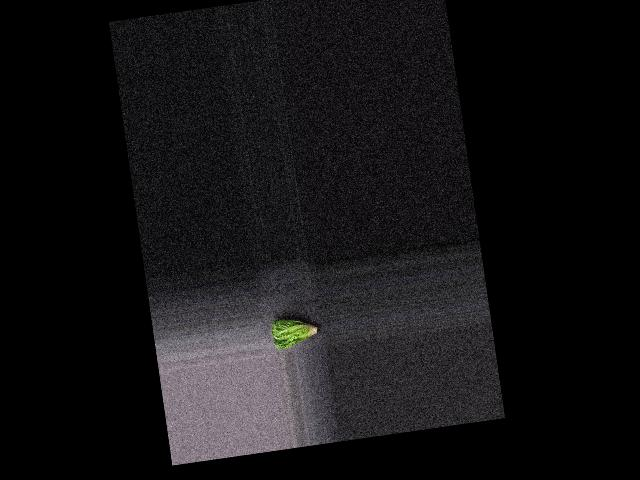lettuce: (269, 312, 323, 351)
